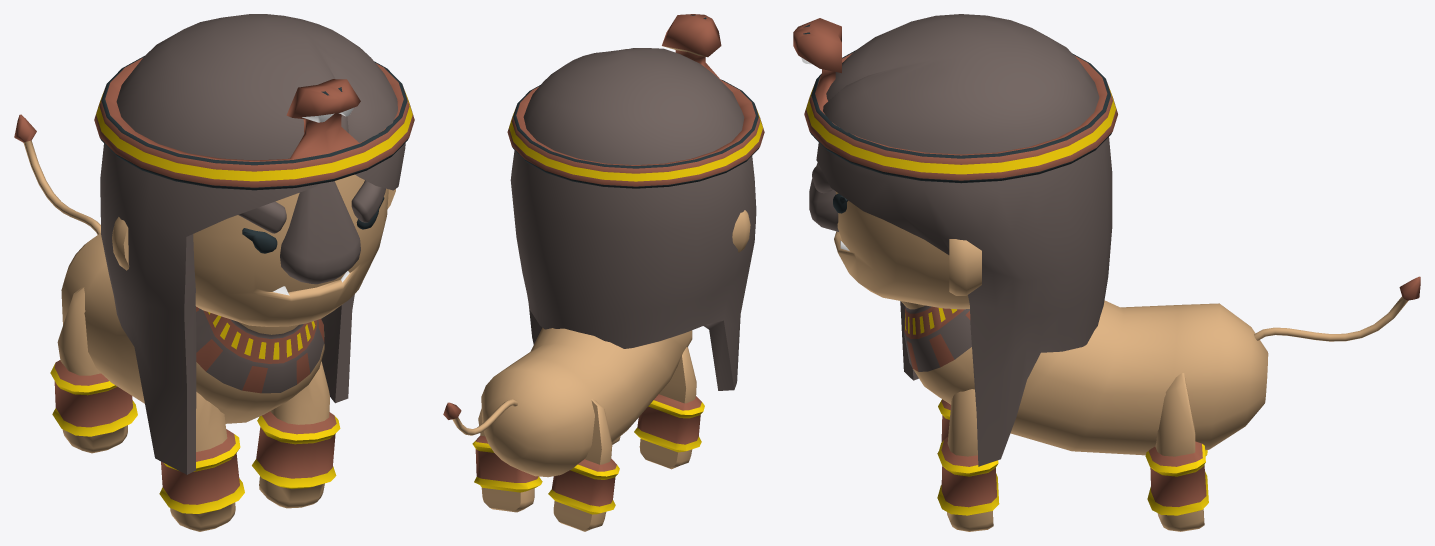
Rendered from Esfinge.fbx.
3 views of the same model, side by side, from view 1: azimuth 30°, elevation 25°; view 2: azimuth 150°, elevation 25°; view 3: azimuth 270°, elevation 25° (orthographic). The views are drawn at different scales.
Parts seen in each view (by area): view 1: rogueHairC, rogueHeadC, character_barbarianBody, rogueHeadC.002, character_barbarianArmLeft.001, character_barbarianArmLeft.002, character_mageHead.001, BezierCurve, rogueHeadC.001; view 2: rogueHairC, character_barbarianBody, rogueHeadC.002, character_barbarianArmLeft.002, character_barbarianArmLeft.001, BezierCurve, rogueHeadC; view 3: rogueHairC, character_barbarianBody, rogueHeadC.002, rogueHeadC, character_barbarianArmLeft.002, character_barbarianArmLeft.001, BezierCurve.
Part boxes in pixels (x1,y1,x2,y2): rogueHairC: [100, 14, 405, 474]; rogueHeadC: [112, 174, 395, 326]; character_barbarianBody: [61, 233, 324, 423]; rogueHeadC.002: [94, 56, 414, 190]; character_barbarianArmLeft.001: [159, 361, 340, 531]; character_barbarianArmLeft.002: [50, 287, 137, 453]; character_mageHead.001: [238, 180, 385, 233]; BezierCurve: [14, 114, 100, 234]; rogueHeadC.001: [242, 197, 384, 253]; rogueHairC: [510, 48, 756, 390]; character_barbarianBody: [481, 327, 692, 477]; rogueHeadC.002: [507, 14, 764, 188]; character_barbarianArmLeft.002: [472, 398, 619, 531]; character_barbarianArmLeft.001: [612, 347, 704, 469]; BezierCurve: [443, 399, 518, 435]; rogueHeadC: [732, 210, 750, 252]; rogueHairC: [816, 14, 1112, 466]; character_barbarianBody: [901, 300, 1268, 455]; rogueHeadC.002: [793, 18, 1117, 183]; rogueHeadC: [809, 162, 981, 309]; character_barbarianArmLeft.002: [1145, 372, 1208, 531]; character_barbarianArmLeft.001: [937, 389, 999, 531]; BezierCurve: [1254, 276, 1420, 341].
Size of the model in its own units: 251 by 419 by 499.
